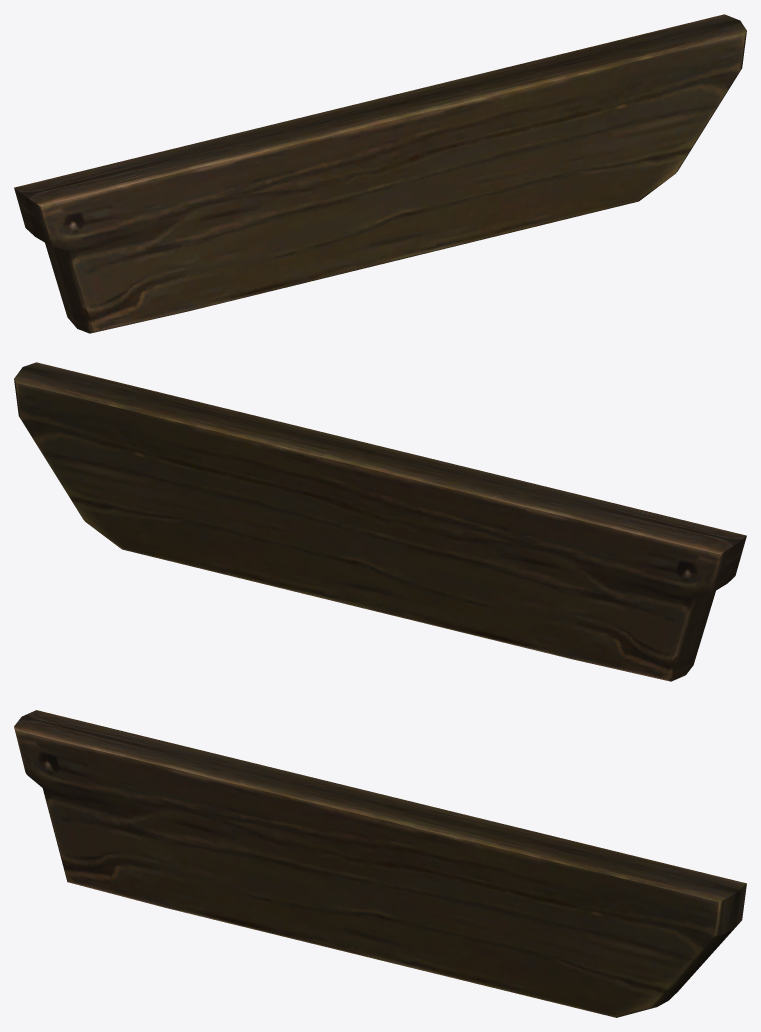
File: juqing_fuben_544_diban_01b.obj
The picture shows the model from 3 angles, top to bottom: view 1: azimuth 30°, elevation 25°; view 2: azimuth 150°, elevation 25°; view 3: azimuth 330°, elevation 25°; orthographic projection.
Parts seen in each view (by area): view 1: juqing_fuben_544_diban_03; view 2: juqing_fuben_544_diban_03; view 3: juqing_fuben_544_diban_03.
Boxes of the visible parts, x1,y1,x2,y2 form: juqing_fuben_544_diban_03: [14, 14, 746, 333]; juqing_fuben_544_diban_03: [14, 362, 746, 681]; juqing_fuben_544_diban_03: [14, 710, 746, 1017].
Bounding box in the file's own units: 1338 × 264 × 81.66.
Materials: 1 (1 with a texture image).
